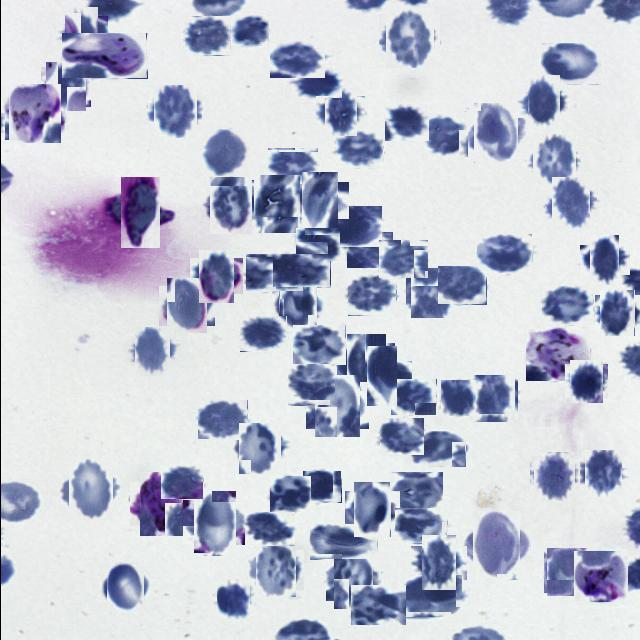gametocyte: (134, 477, 188, 531)
red blood cell: (466, 516, 524, 574), (111, 184, 168, 240), (307, 206, 381, 247), (310, 379, 364, 434), (188, 496, 242, 550), (382, 11, 436, 65), (63, 464, 116, 516), (399, 575, 462, 618), (468, 107, 520, 159), (250, 178, 302, 230), (540, 43, 600, 85), (204, 181, 254, 231), (309, 524, 377, 560), (200, 129, 250, 177), (388, 472, 442, 516), (529, 136, 577, 185), (162, 282, 210, 330), (150, 88, 198, 136), (251, 546, 299, 594), (328, 557, 376, 605), (341, 338, 389, 386), (476, 234, 532, 274), (287, 360, 335, 406), (245, 254, 303, 292), (350, 585, 405, 625), (235, 426, 282, 472), (296, 177, 342, 224), (347, 272, 396, 316), (419, 114, 468, 158), (292, 325, 345, 365), (531, 454, 577, 500), (42, 64, 88, 110), (269, 40, 324, 78), (541, 286, 593, 326), (408, 270, 453, 316), (348, 487, 394, 532), (470, 376, 515, 422), (358, 353, 403, 399), (274, 284, 320, 328), (548, 180, 592, 226), (544, 550, 590, 594), (416, 540, 460, 586), (197, 400, 247, 440), (193, 254, 238, 298), (410, 431, 465, 467), (272, 254, 330, 288), (378, 240, 428, 279), (102, 565, 146, 609), (521, 80, 565, 124), (437, 266, 486, 305), (394, 508, 447, 544), (267, 148, 318, 185), (183, 16, 230, 56), (335, 131, 383, 169), (581, 452, 624, 494), (59, 12, 102, 54), (130, 330, 172, 372), (238, 316, 286, 352), (596, 292, 638, 333), (384, 102, 428, 141), (390, 379, 436, 416), (244, 512, 294, 546), (346, 232, 392, 268), (320, 91, 360, 132), (379, 418, 423, 455), (584, 240, 624, 280), (295, 228, 340, 262), (566, 362, 604, 401), (269, 476, 310, 512), (160, 466, 203, 500), (289, 70, 341, 98), (214, 580, 251, 618), (440, 380, 476, 416), (302, 470, 341, 502), (230, 15, 268, 46)
schizont: (525, 329, 589, 381)
trophozoite: (60, 33, 146, 79), (6, 86, 62, 142), (574, 550, 627, 603)
